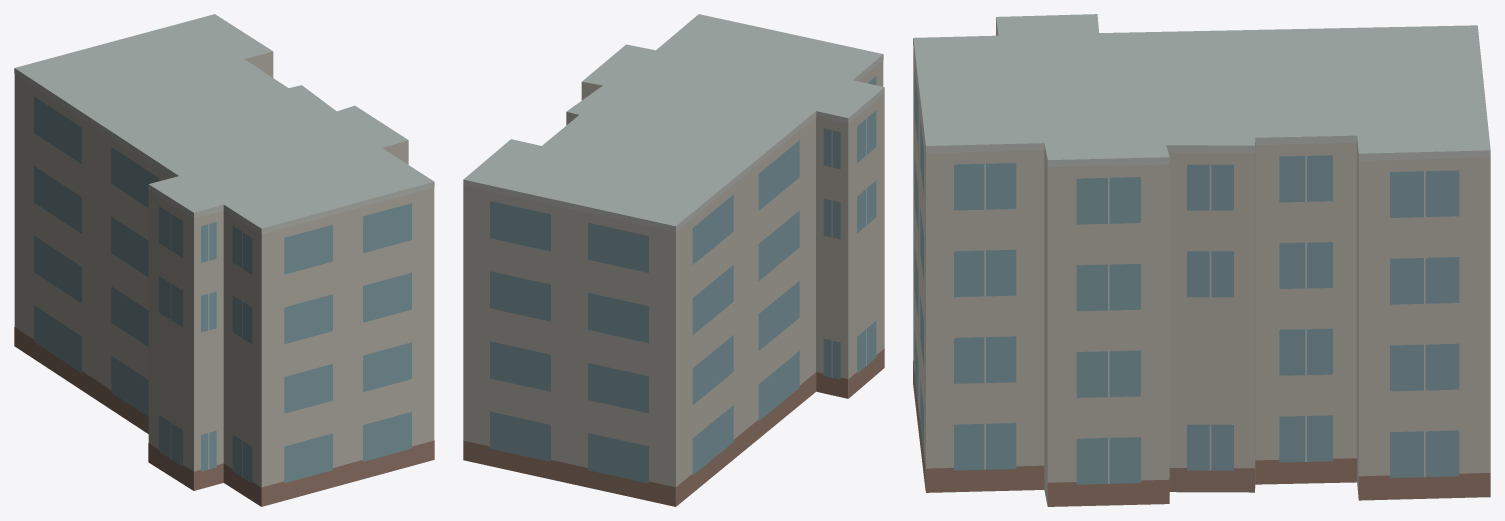
Rendered from survey-upis-32723119.glb.
3 renders of one model, left to right at view 1: azimuth 30°, elevation 25°; view 2: azimuth 150°, elevation 25°; view 3: azimuth 270°, elevation 25°, orthographic. The views are drawn at different scales.
Visible parts, largest first — view 1: survey-upis-32723119.tmp; view 2: survey-upis-32723119.tmp; view 3: survey-upis-32723119.tmp.
Part boxes in pixels (x1=…): survey-upis-32723119.tmp: x1=14, y1=14, x2=434, y2=506; survey-upis-32723119.tmp: x1=463, y1=14, x2=884, y2=506; survey-upis-32723119.tmp: x1=913, y1=14, x2=1490, y2=506.
Size of the model in its own units: 10.63 by 11.75 by 17.74.
